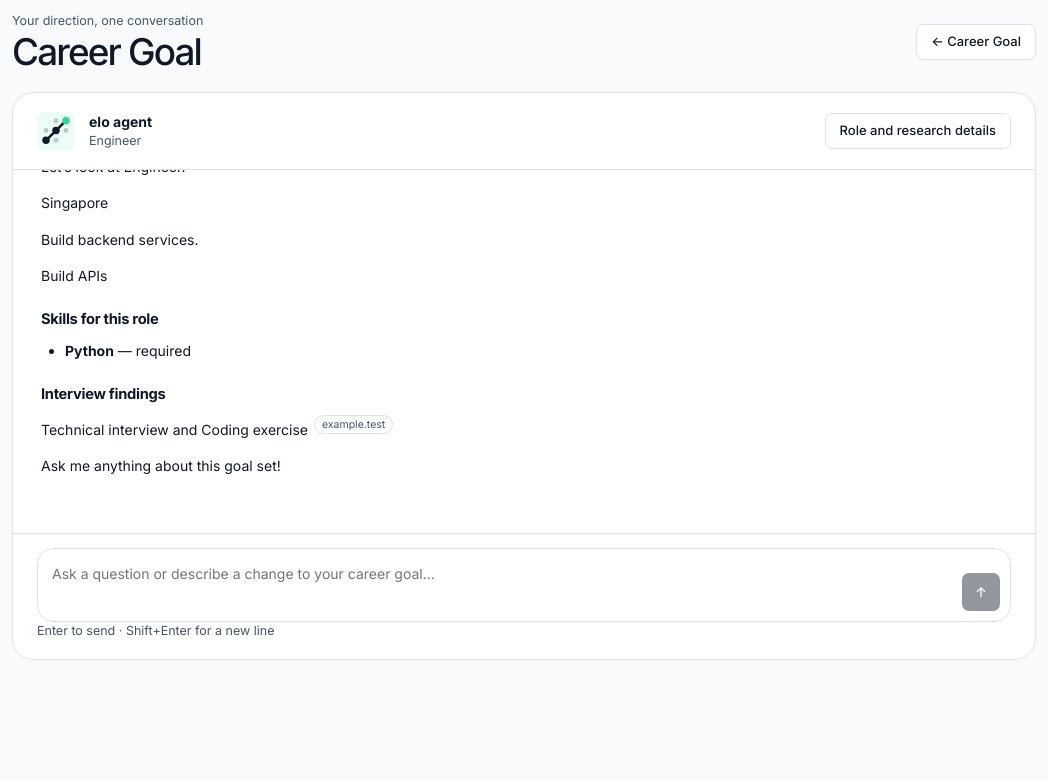
it: single career conversation › reuses the same message key after a failed conversational edit
This screenshot has width=1048, height=780.
(page scrolled)
Type "Change my company to Example" into the text box named "Message elo" at (500, 585), box [48,558,952,611]
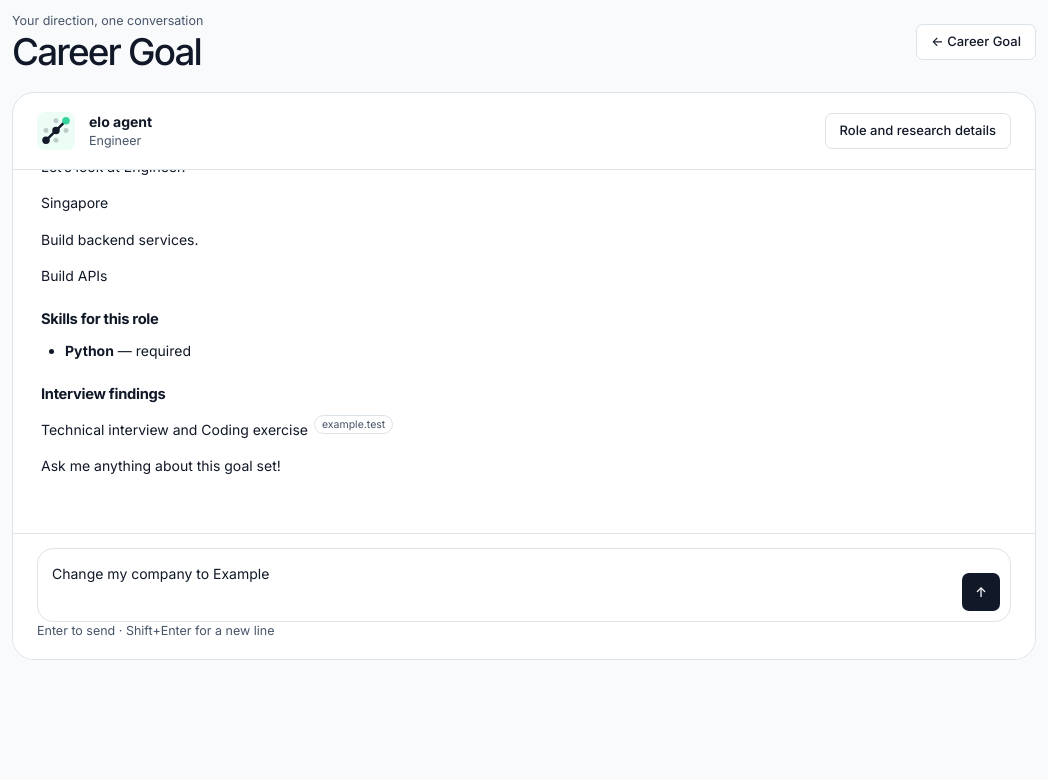
Click the button named "Send message" at (981, 592), box [962,573,1000,611]
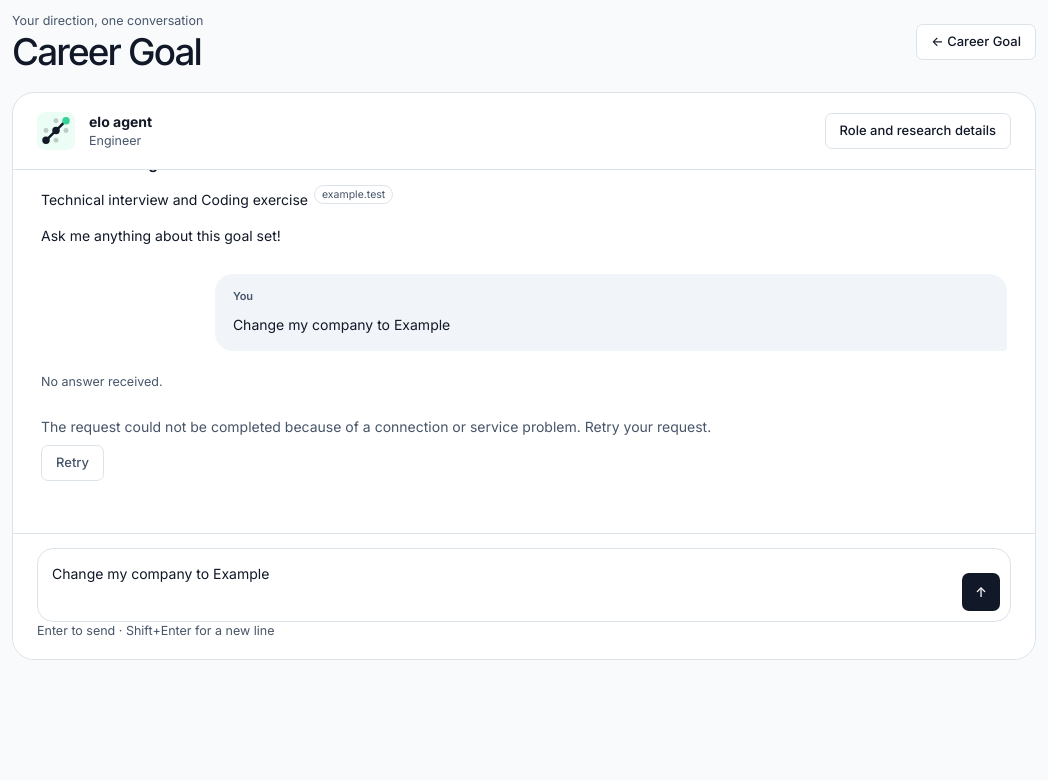
Now the button "Retry" is shown, box [41,445,104,481]
Now the message shows "connection or service problem", box [41,418,711,435]
Click the button named "Send message" at (981, 592), box [962,573,1000,611]
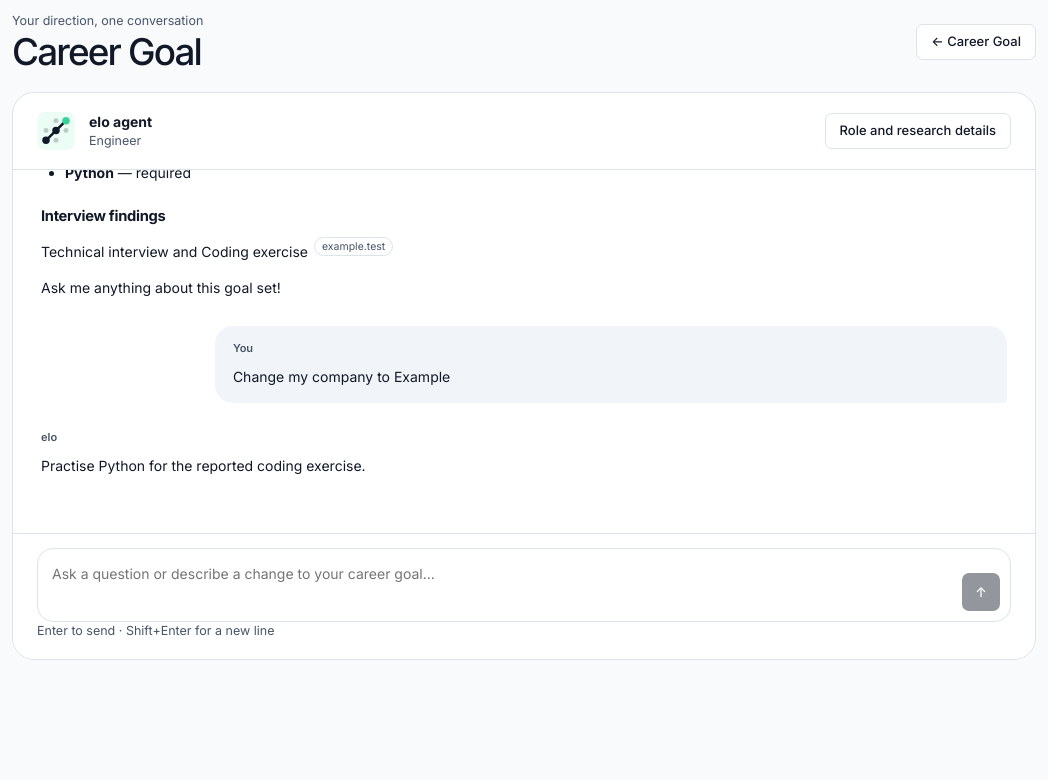
Now the text "Practise Python for the reported coding exercise." is shown, box [41,457,366,474]
